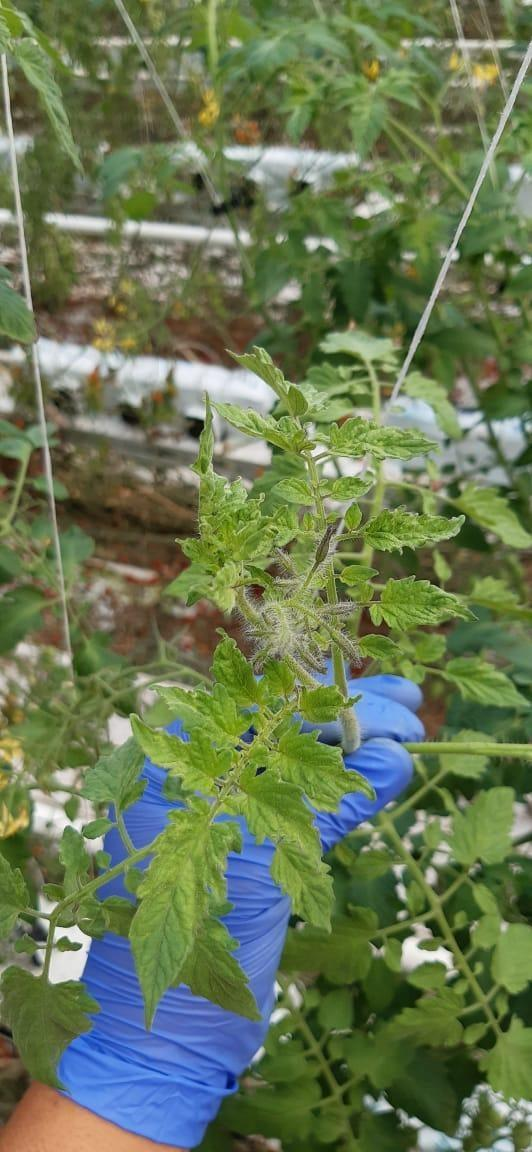Flor rugoso: (314, 521, 338, 566)
Hoja: (127, 809, 207, 1030), (140, 730, 231, 795), (269, 840, 333, 930), (369, 576, 471, 630)
Hoja rugoso: (274, 727, 367, 812), (227, 770, 320, 848), (160, 682, 252, 745), (362, 508, 461, 551), (212, 628, 256, 704), (299, 686, 344, 722)
Tomate: (331, 628, 360, 662)
